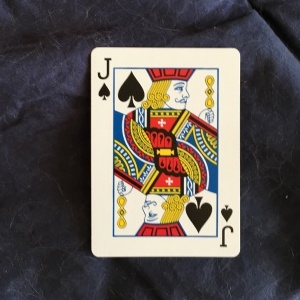card: (89, 44, 242, 256)
